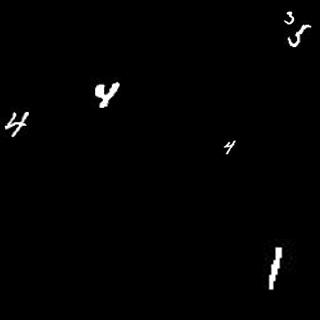five: (286, 22, 313, 48)
four: (90, 76, 122, 110), (2, 104, 31, 137), (217, 134, 240, 158)
one: (268, 246, 283, 288)
three: (282, 9, 298, 25)
